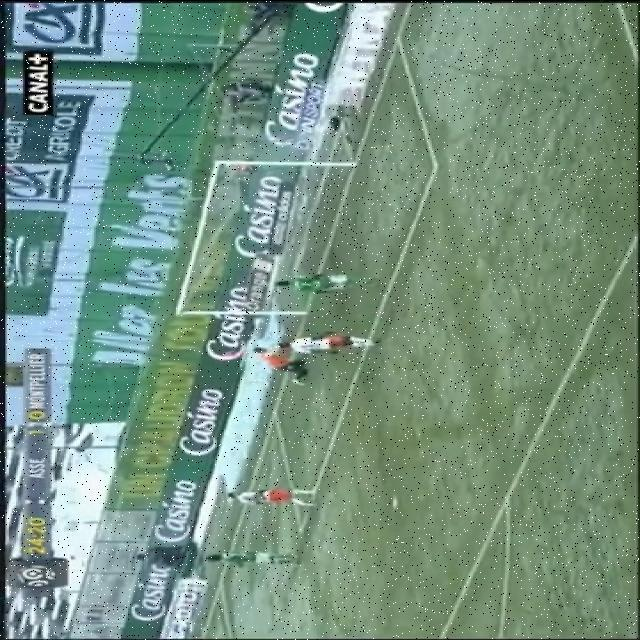goalkeeper: (240, 341, 309, 380)
player: (192, 533, 350, 572), (210, 473, 336, 515), (270, 260, 400, 294), (291, 326, 382, 354)
